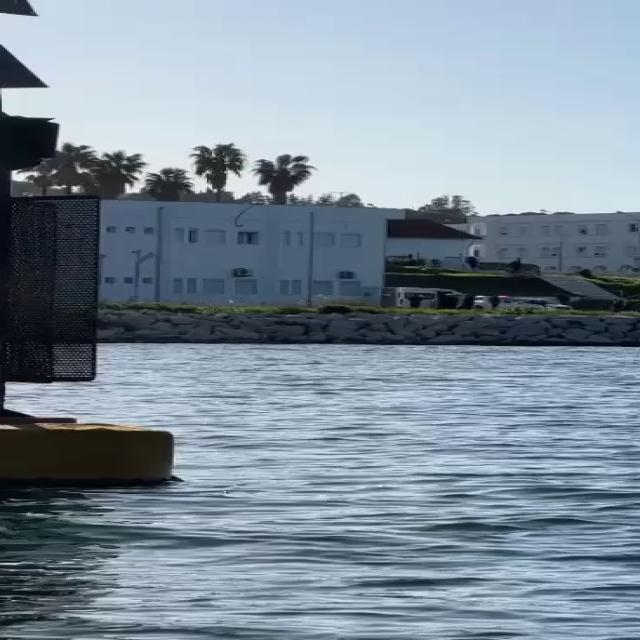marque: (1, 1, 170, 491)
